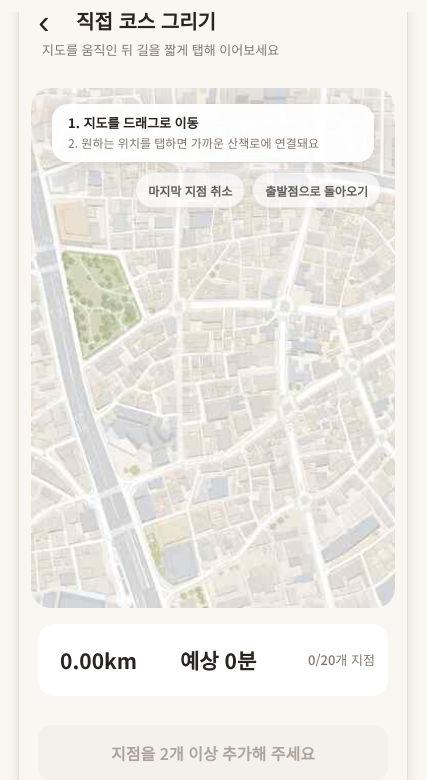
Test case: DrawCoursePage › sends every selected waypoint in order even when one was snapped to a nearby walkway
What coordinates should you click on to do the following:
click the button named "지도에 지점 추가"
I would click on:
 (213, 348)
Its box is [31,88,395,608].
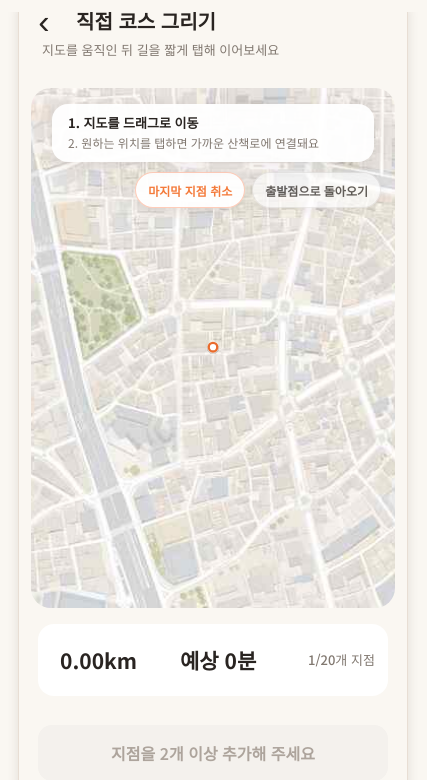
Now the text "1/20개 지점" is shown, box [308,650,375,670]
What coordinates should you click on to do the following:
click the button named "지도에 지점 추가"
I would click on:
 (213, 348)
Its box is [31,88,395,608].
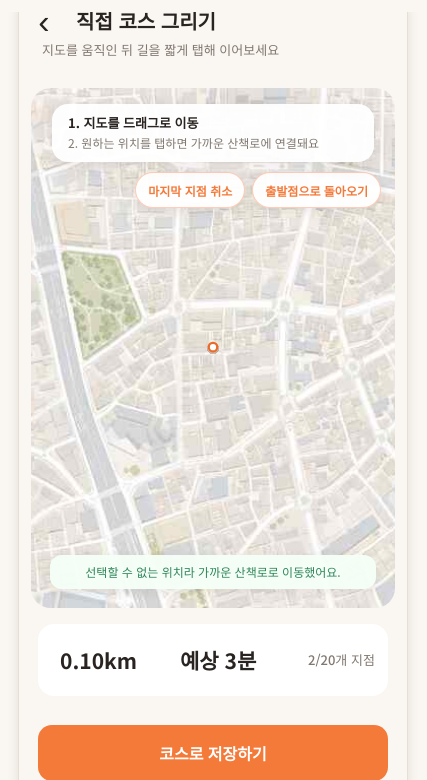
Now the text "2/20개 지점" is shown, box [308,650,375,670]
What coordinates should you click on to do the following:
click the button named "지도에 지점 추가"
I would click on:
 (213, 348)
Its box is [31,88,395,608].
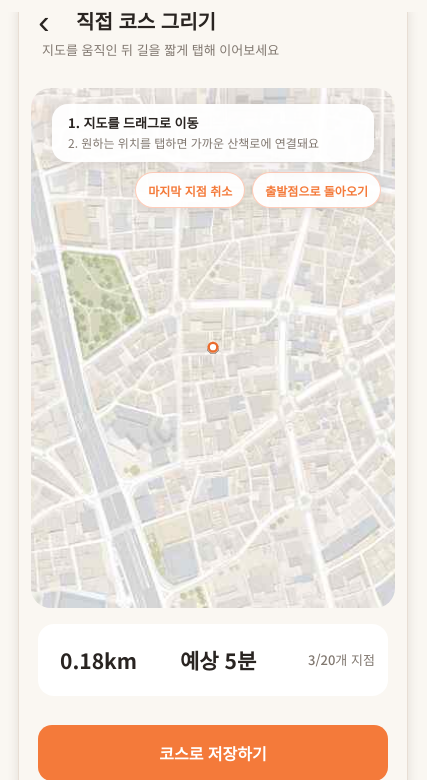
Now the text "3/20개 지점" is shown, box [308,650,375,670]
Now the text "0.18km" is shown, box [60,644,137,674]
